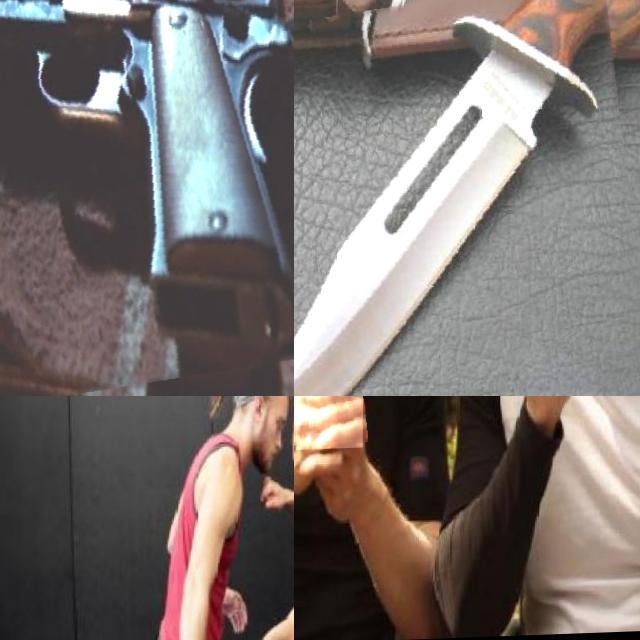-: (294, 0, 640, 396), (296, 396, 364, 489)
gun-knife-thesis - v11 Yolov5 augmented: (0, 0, 294, 396)
